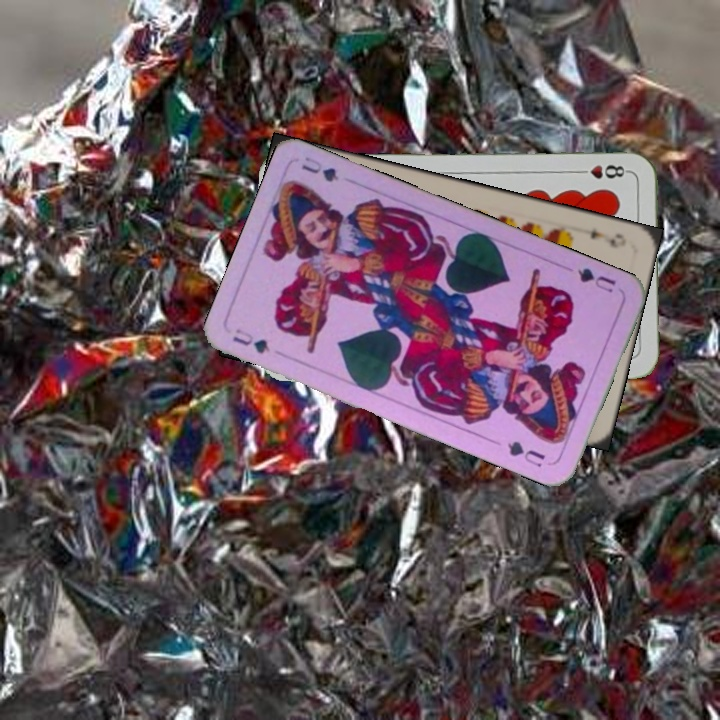E9: (586, 226, 629, 251)
GU: (573, 263, 618, 296), (228, 324, 273, 356)
H8: (573, 161, 632, 181)
